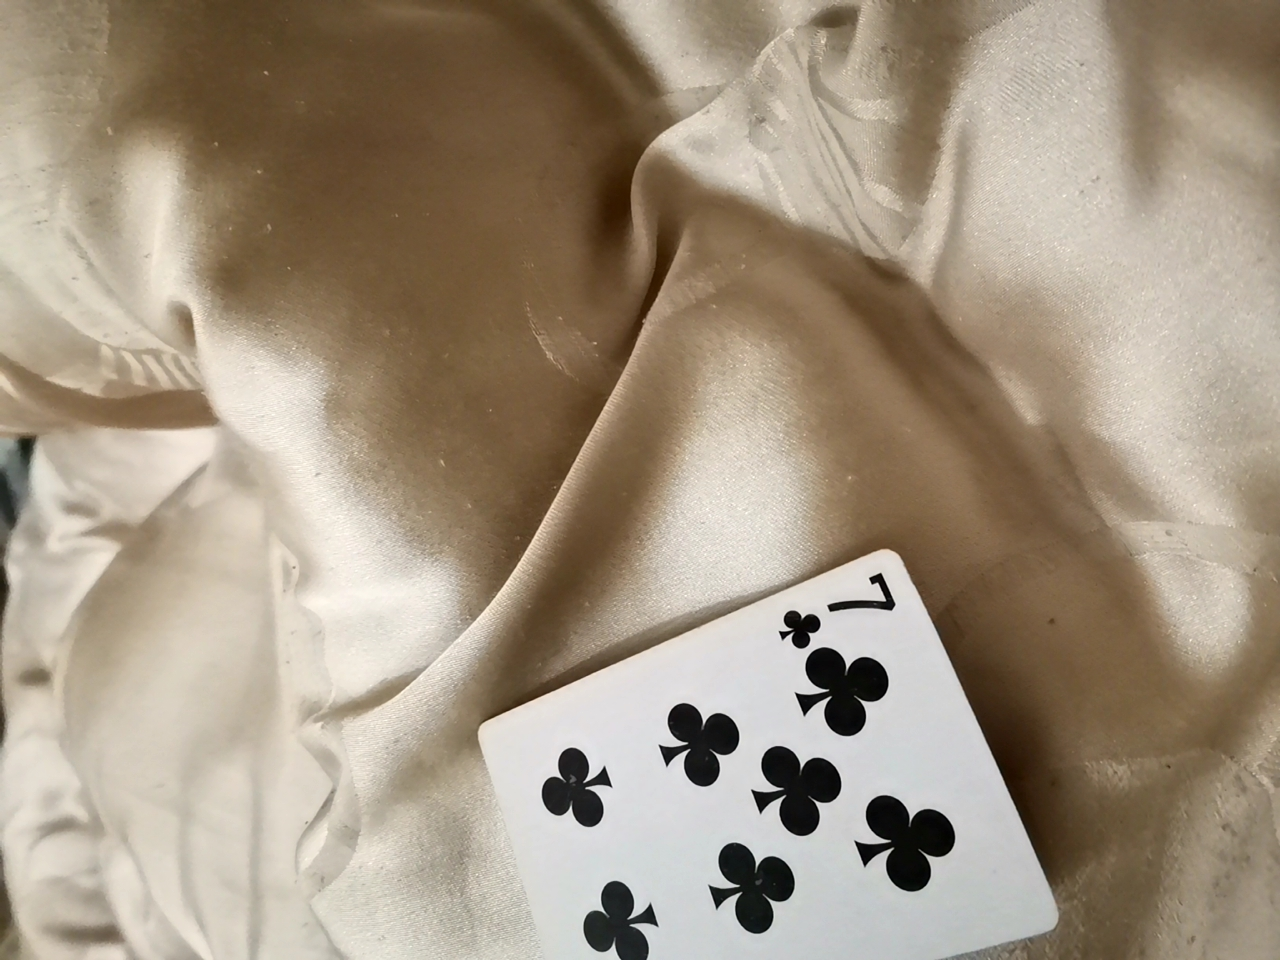mh 7: (450, 557, 1075, 960)
